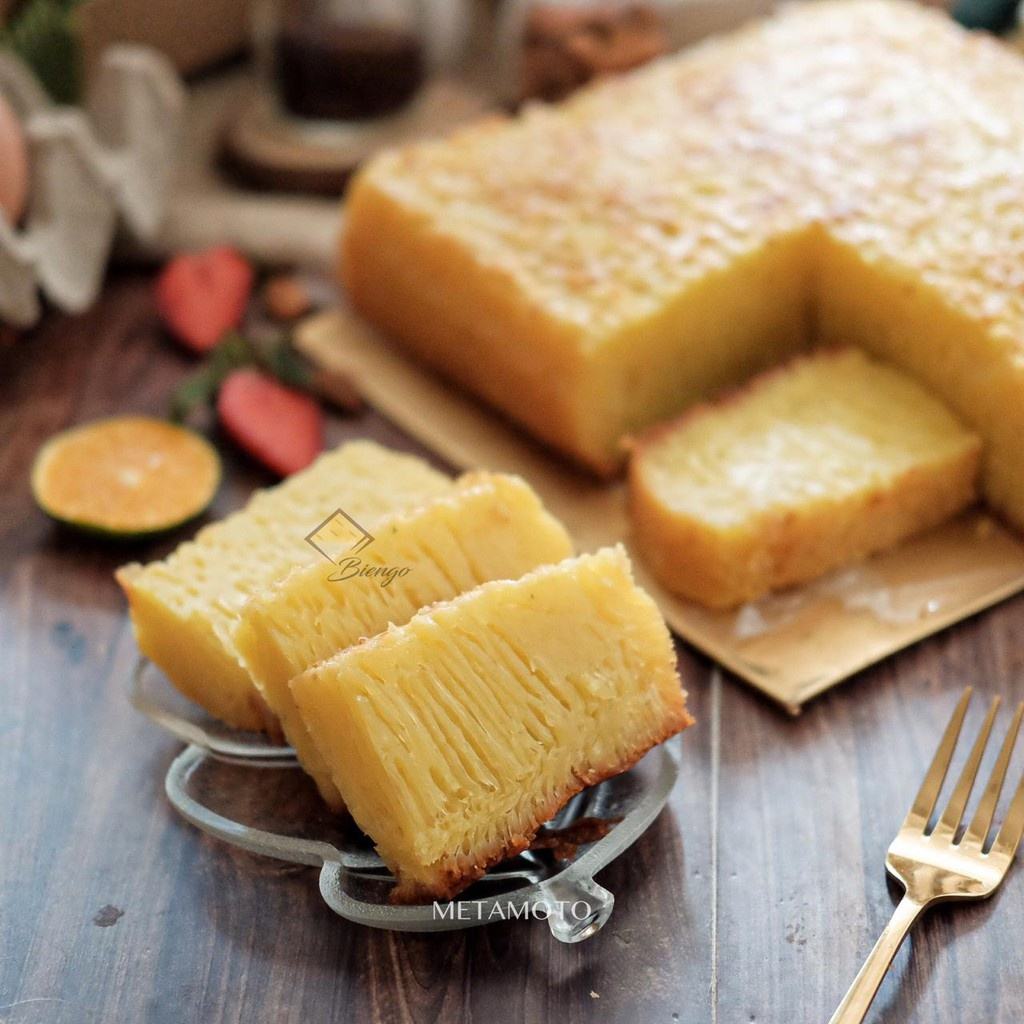bika_ambon: (301, 544, 685, 896), (620, 344, 1002, 606)
